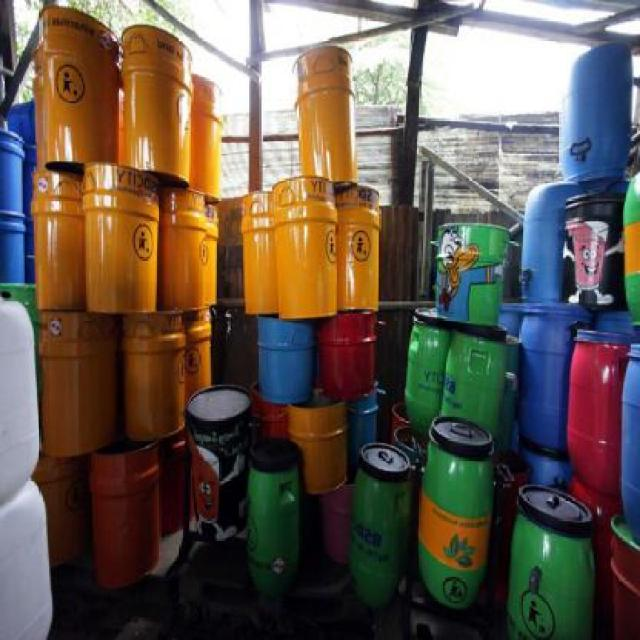garbage container: (412, 414, 498, 612), (32, 5, 120, 167), (511, 478, 597, 639), (118, 23, 198, 185), (90, 442, 168, 592), (352, 437, 417, 615), (562, 40, 636, 186), (270, 178, 342, 322), (244, 435, 305, 603), (287, 42, 359, 184)
